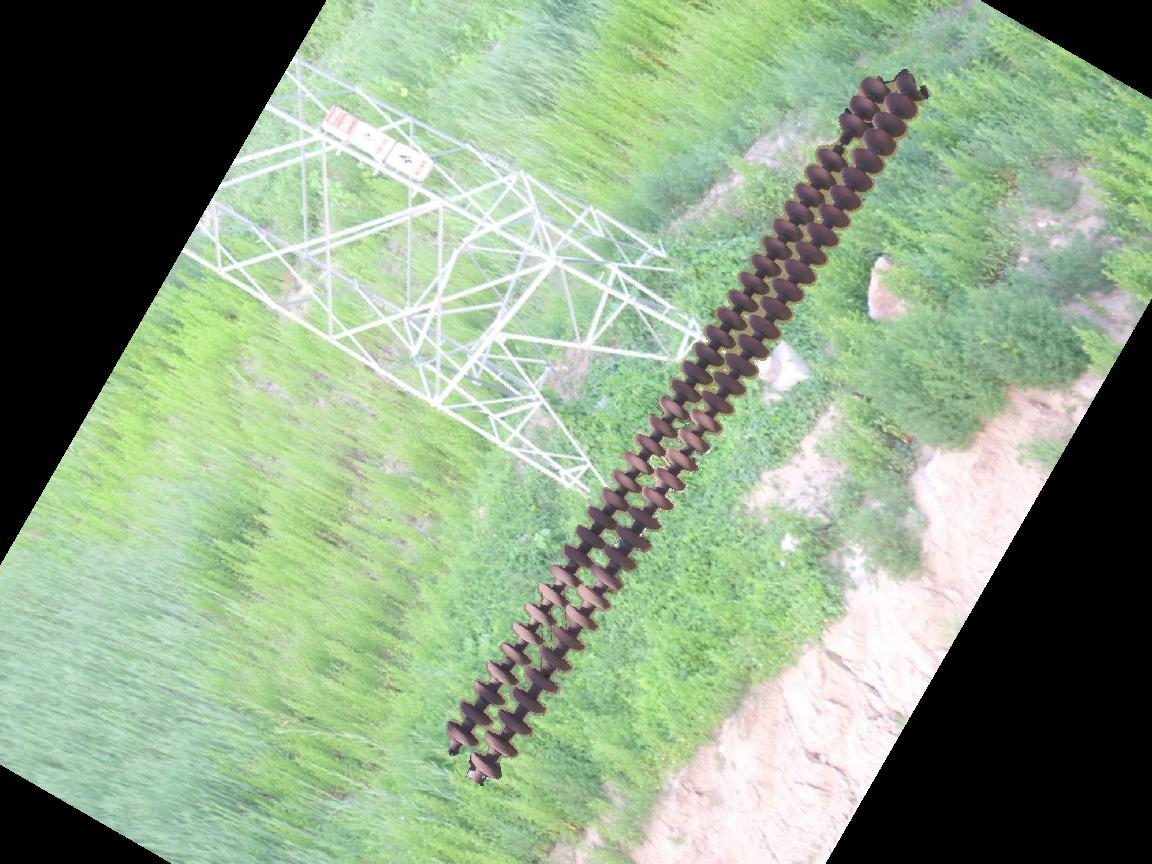insulator: (442, 66, 929, 786)
insulator_stringdrop: (814, 110, 869, 174)
